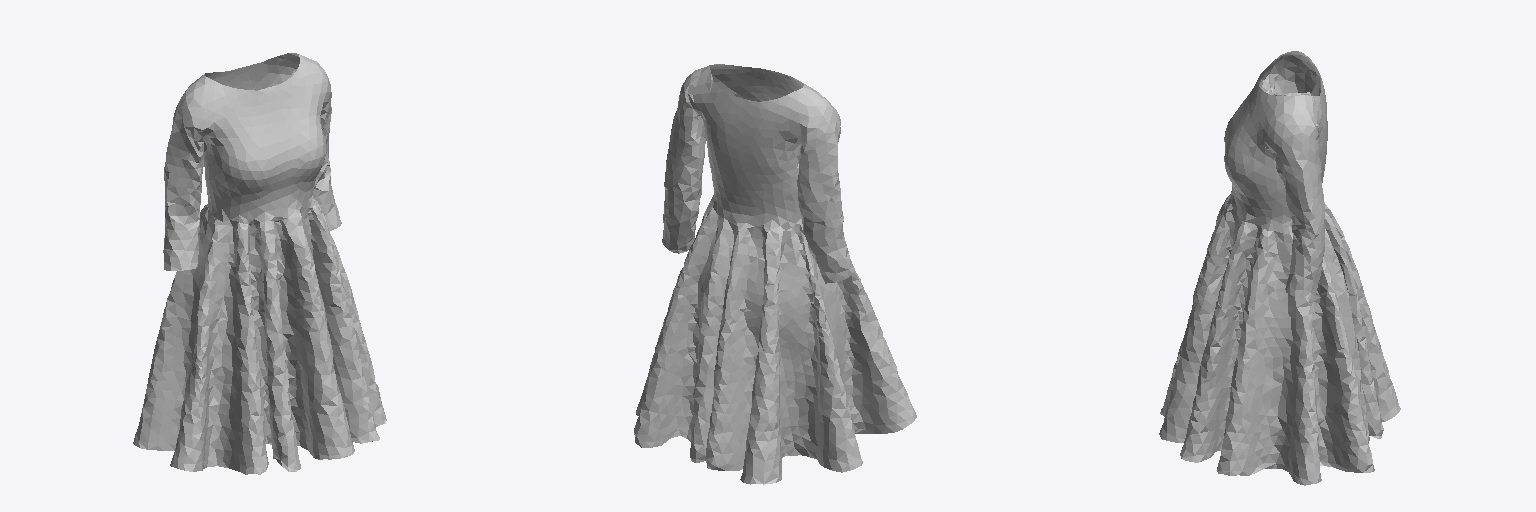
Rendered from dress-v5k-f10k-v3.obj.
3 views of the same model, side by side, from view 1: azimuth 30°, elevation 25°; view 2: azimuth 150°, elevation 25°; view 3: azimuth 270°, elevation 25° (orthographic).
Parts seen in each view (by area): view 1: dress-v5k-f10k-v2; view 2: dress-v5k-f10k-v2; view 3: dress-v5k-f10k-v2.
Boxes of the visible parts, x1,y1,x2,y2 form: dress-v5k-f10k-v2: [133, 53, 386, 474]; dress-v5k-f10k-v2: [634, 64, 916, 484]; dress-v5k-f10k-v2: [1159, 51, 1400, 485].
Bounding box in the file's own units: 23.57 × 36.11 × 21.41.